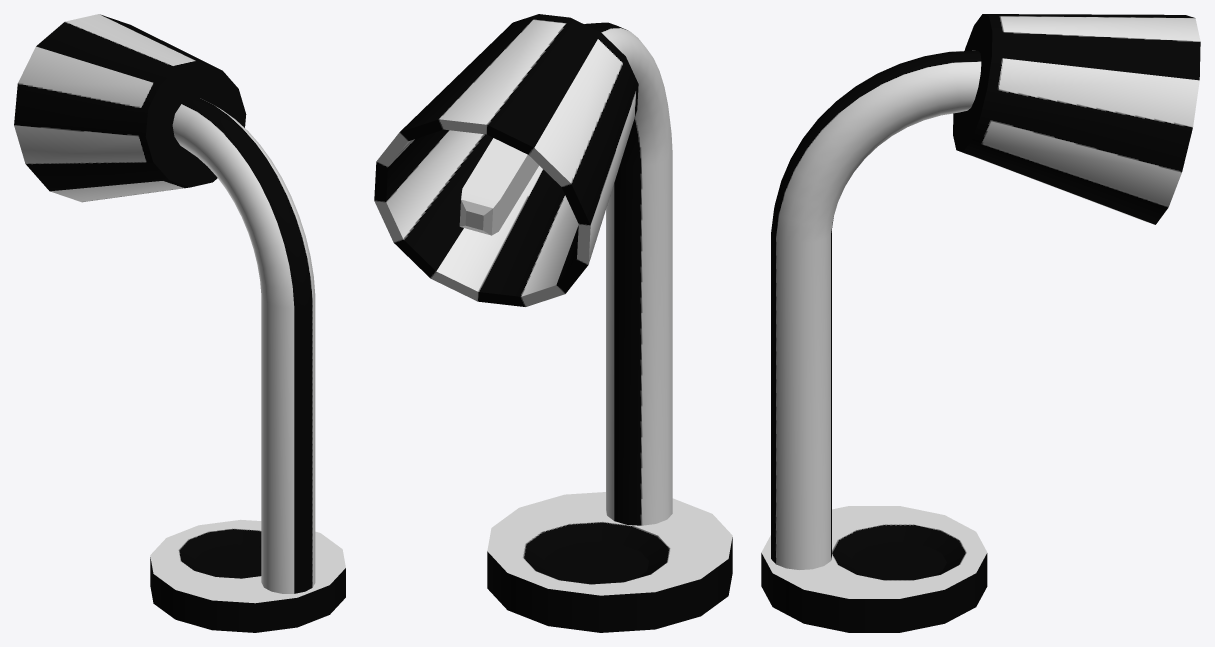
Rendered from Lamp.fbx.
3 views of the same model, side by side, from view 1: azimuth 30°, elevation 25°; view 2: azimuth 150°, elevation 25°; view 3: azimuth 270°, elevation 25° (orthographic). The views are drawn at different scales.
Parts seen in each view (by area): view 1: Lamplp.002; view 2: Lamplp.002; view 3: Lamplp.002.
Boxes of the visible parts, x1=… form: Lamplp.002: x1=14, y1=14, x2=345, y2=632; Lamplp.002: x1=374, y1=14, x2=732, y2=632; Lamplp.002: x1=761, y1=14, x2=1200, y2=632.
Bounding box in the file's own units: 0.5066 × 1.23 × 0.875.
